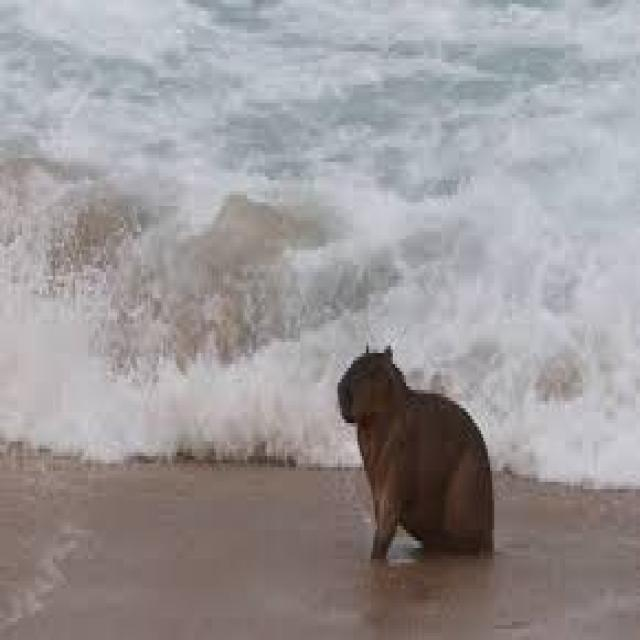capy: (335, 341, 495, 561)
